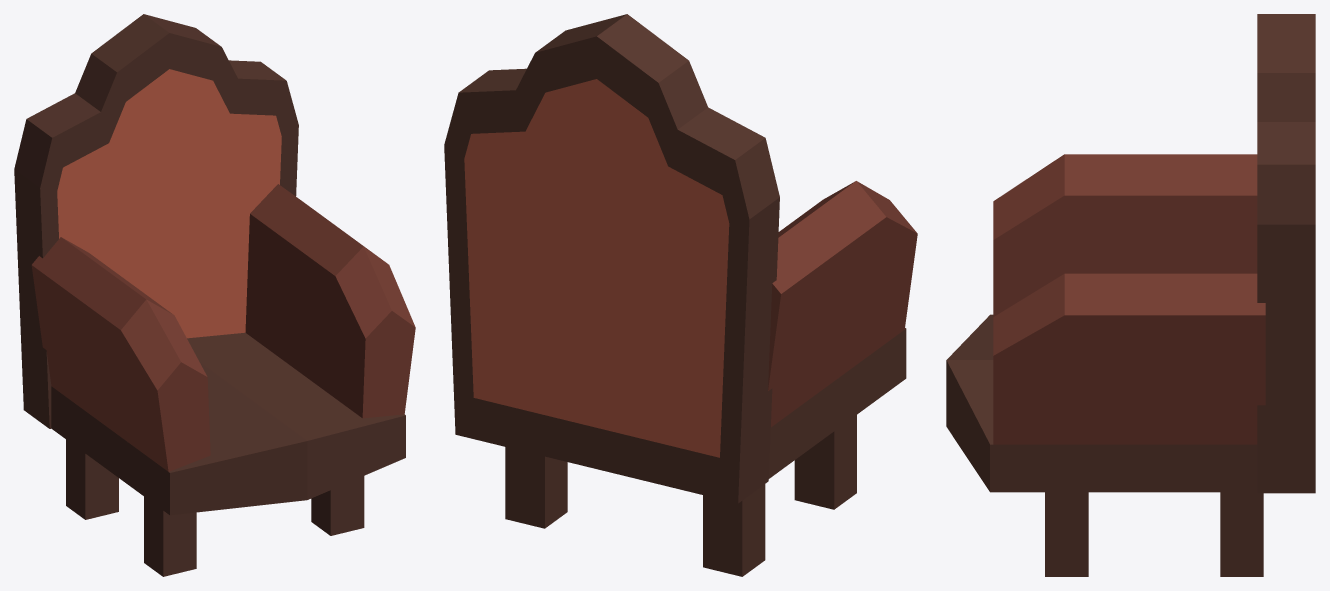
The model's file is Chair_4_Red.fbx.
The picture shows the model from 3 angles, left to right: view 1: azimuth 30°, elevation 25°; view 2: azimuth 150°, elevation 25°; view 3: azimuth 270°, elevation 25°; orthographic projection. The views are drawn at different scales.
Visible parts, largest first — view 1: Chair_4_Red_Part_1, Chair_4_Red_Part_3, Chair_4_Red_Part_2; view 2: Chair_4_Red_Part_2, Chair_4_Red_Part_1, Chair_4_Red_Part_3; view 3: Chair_4_Red_Part_3, Chair_4_Red_Part_1.
Part boxes in pixels (x1,y1,x2,y2): Chair_4_Red_Part_1: (14,14,405,576); Chair_4_Red_Part_3: (31,184,415,471); Chair_4_Red_Part_2: (57,69,281,338); Chair_4_Red_Part_2: (464,79,729,457); Chair_4_Red_Part_1: (444,14,906,576); Chair_4_Red_Part_3: (768,181,917,427); Chair_4_Red_Part_3: (993,154,1265,444); Chair_4_Red_Part_1: (946,14,1315,576).
Bounding box in the file's own units: 64.09 × 103 × 67.73.
